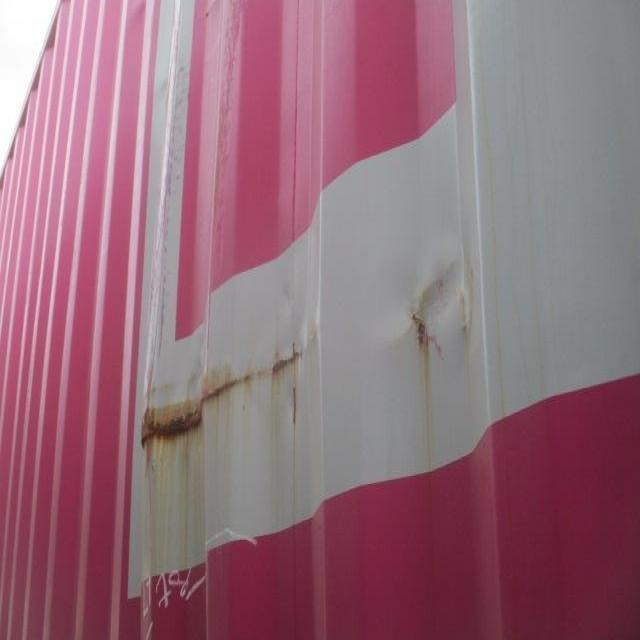dent: (119, 201, 333, 549), (388, 237, 492, 361)
